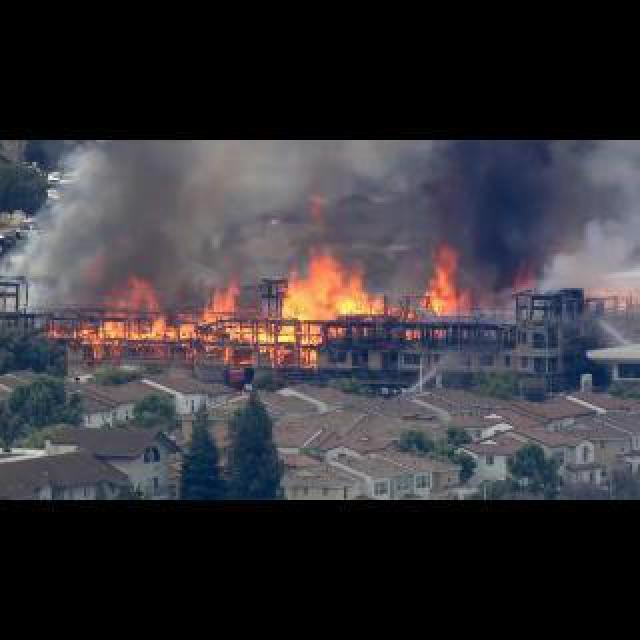Fire: (54, 260, 480, 360)
Smoke: (413, 132, 581, 288), (68, 139, 189, 308)
